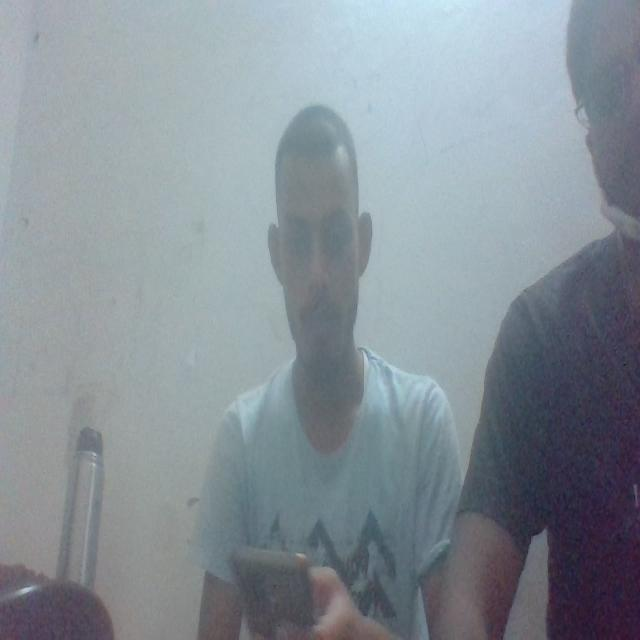Phone: (228, 541, 322, 639)
